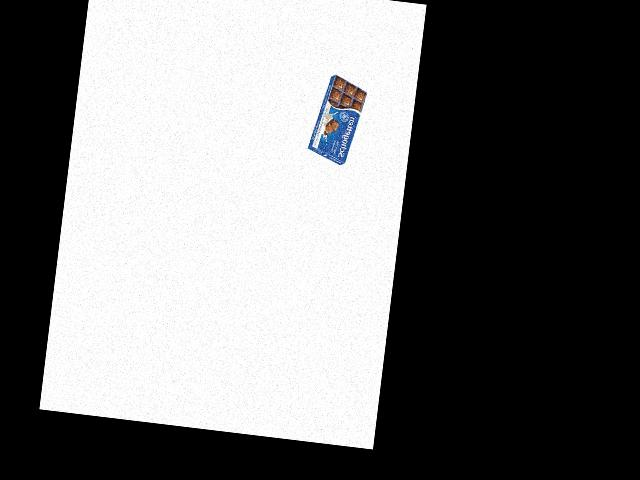chocolate: (313, 72, 369, 169)
